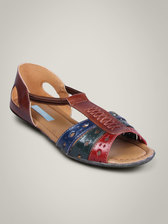shoes: (9, 60, 159, 168)
